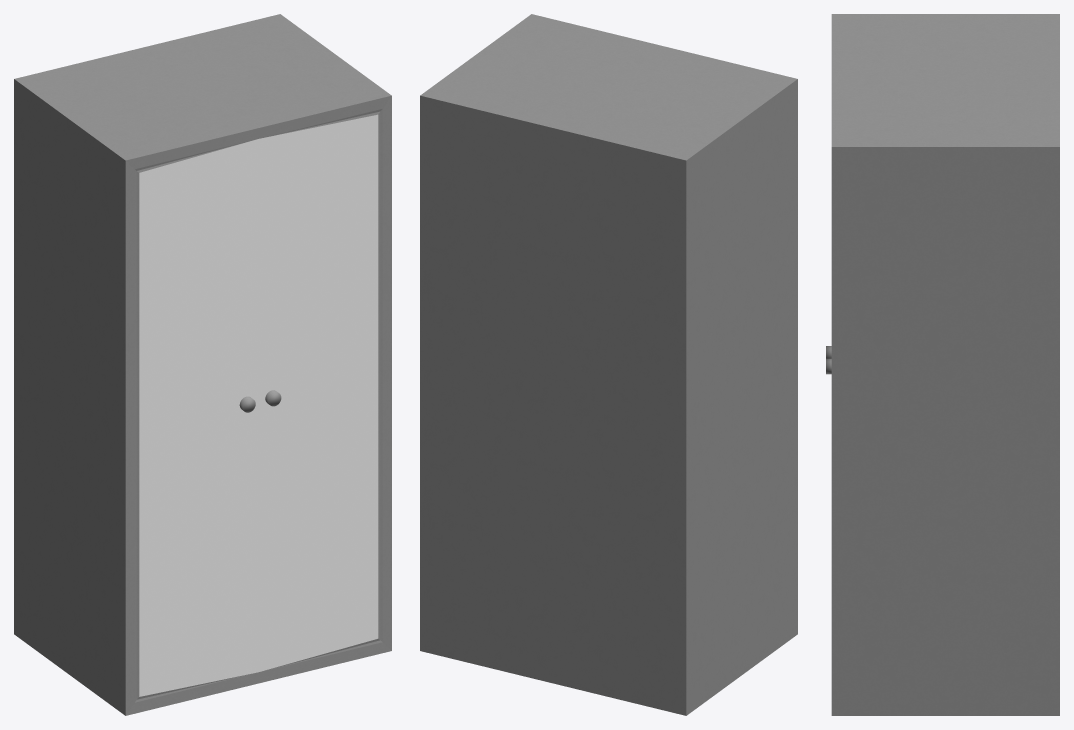
The model's file is armario.glb.
3 renders of one model, left to right at view 1: azimuth 30°, elevation 25°; view 2: azimuth 150°, elevation 25°; view 3: azimuth 270°, elevation 25°, orthographic. The views are drawn at different scales.
Visible parts, largest first — view 1: Cube.001, Cube.038; view 2: Cube.038; view 3: Cube.038.
Boxes of the visible parts, left/top/right/bottom form: Cube.001: left=139, top=114, right=378, bottom=696; Cube.038: left=14, top=14, right=391, bottom=715; Cube.038: left=420, top=14, right=797, bottom=715; Cube.038: left=826, top=14, right=1059, bottom=715.
Size of the model in its own units: 1.29 by 2.57 by 0.9576.
2 materials, 2 textured.
